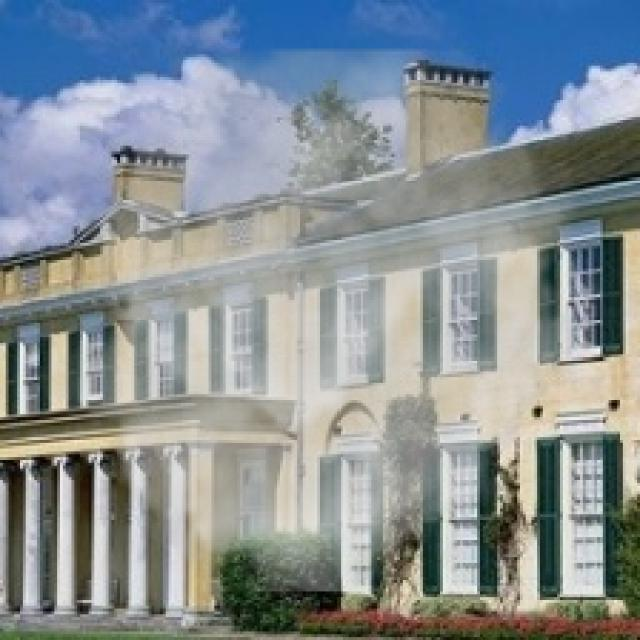smoke: (54, 49, 597, 592)
